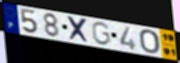4: (118, 26, 137, 51)
5: (19, 8, 39, 35)
8: (42, 12, 62, 39)
G: (90, 21, 112, 47)
O: (139, 29, 161, 55)
X: (66, 15, 90, 45)
